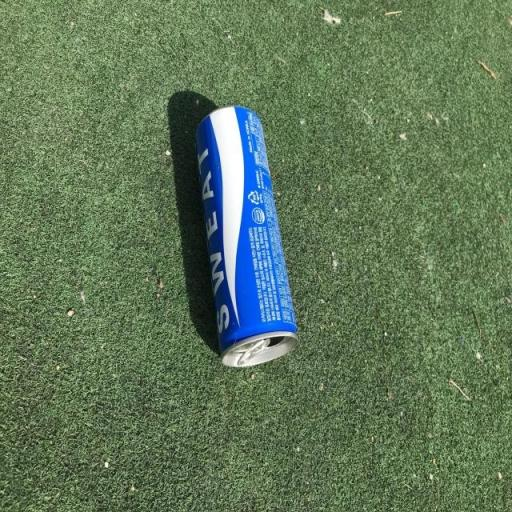metal: (163, 82, 314, 404)
